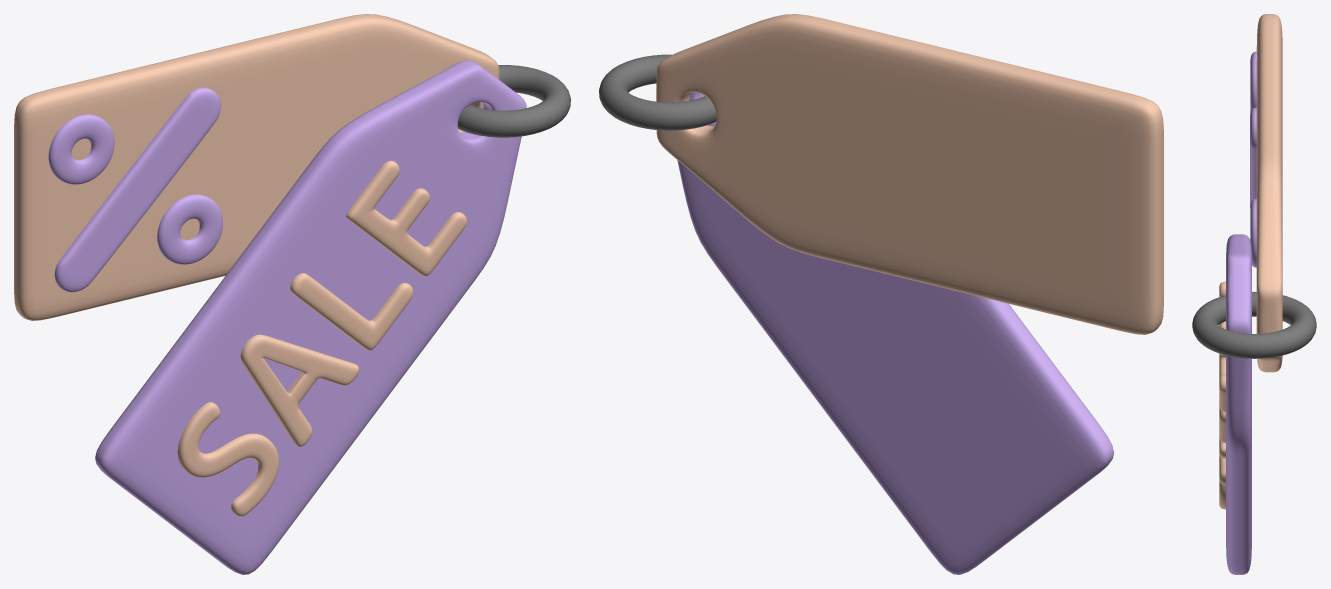
The model's file is sale-tag-1677327595338.glb.
The picture shows the model from 3 angles, left to right: view 1: azimuth 30°, elevation 25°; view 2: azimuth 150°, elevation 25°; view 3: azimuth 270°, elevation 25°; orthographic projection. The views are drawn at different scales.
Parts seen in each view (by area): view 1: SaleLabel, PercentageLabel, Ring; view 2: PercentageLabel, SaleLabel, Ring; view 3: PercentageLabel, SaleLabel, Ring.
Part boxes in pixels (<box>): SaleLabel: <box>95,60,526,574</box>; PercentageLabel: <box>14,14,499,320</box>; Ring: <box>457,65,570,137</box>; PercentageLabel: <box>656,14,1163,334</box>; SaleLabel: <box>677,92,1113,574</box>; Ring: <box>599,54,716,130</box>; PercentageLabel: <box>1250,14,1282,372</box>; SaleLabel: <box>1219,234,1251,574</box>; Ring: <box>1192,291,1316,358</box>.
Size of the model in its own units: 2.29 by 2.09 by 0.4992.
